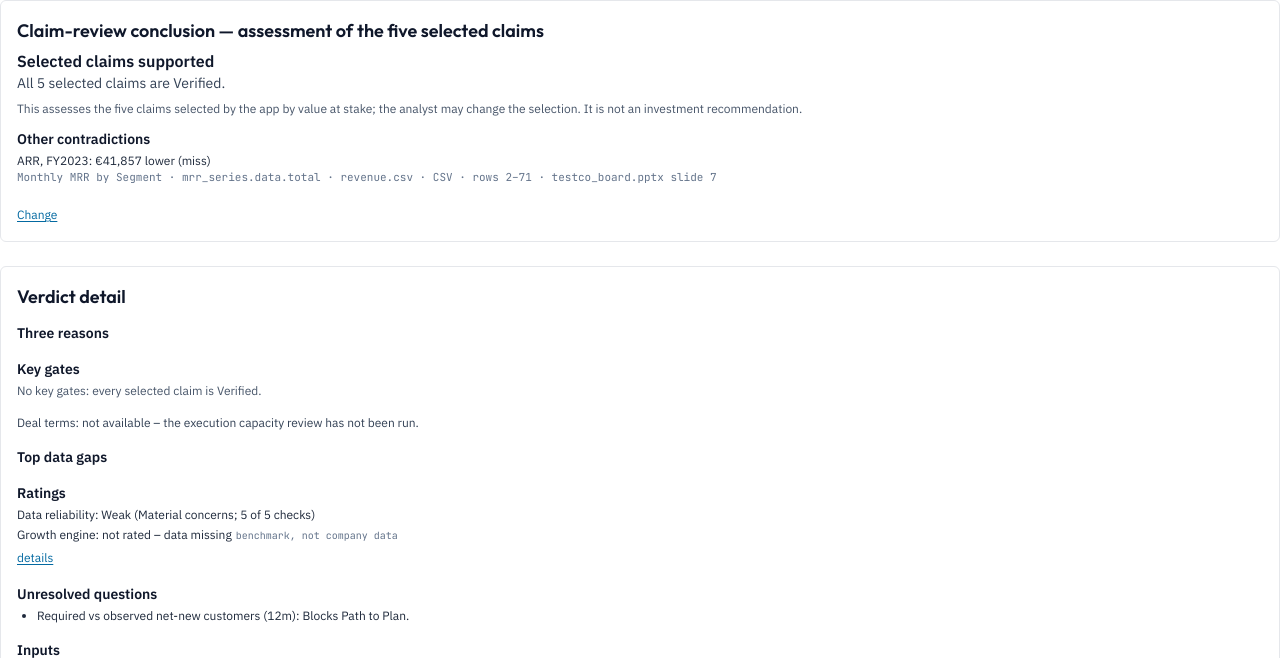
Test: the selection sentence is the scope sentence, said once; the one Change link; a changed set reads 'Top 5 changed by the analyst —' with a reset that sends top5
Later steps or results of the test are not shown.
Step 1. Click the button with test id "top5-change" → click(37, 215), box [17,207,57,223]
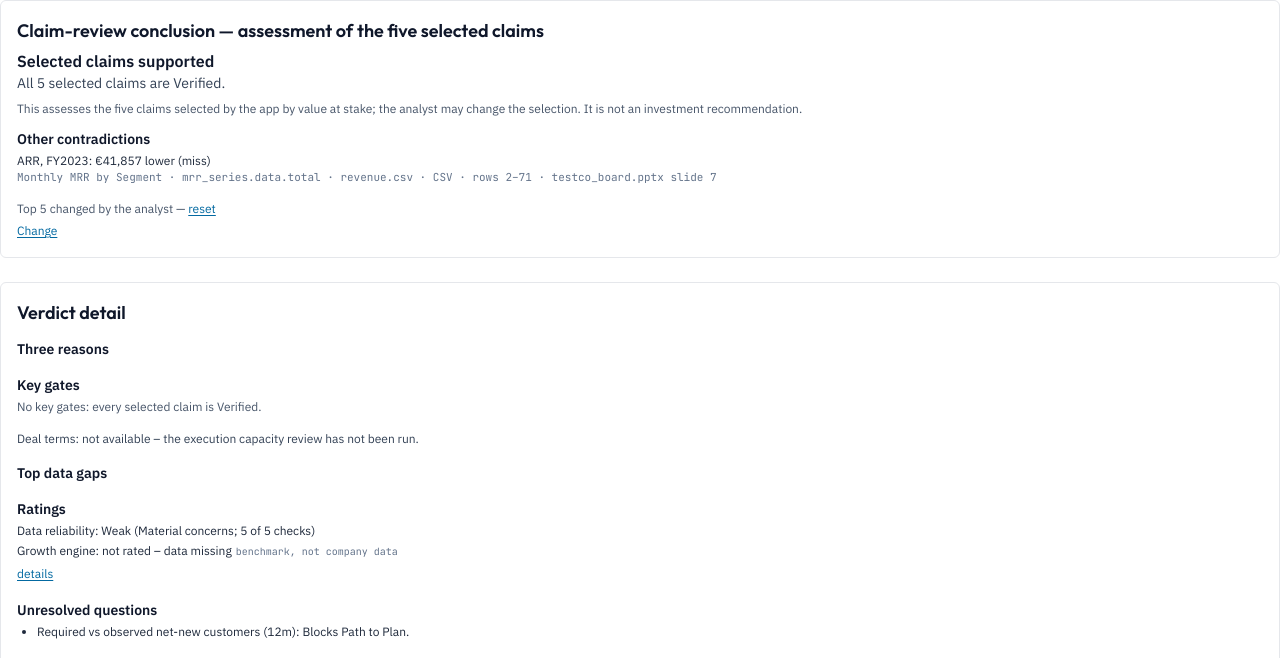
Expected: the element with test id "verdict-top5-note" reads "Top 5 changed by the analyst — reset", [17,201,216,217]
